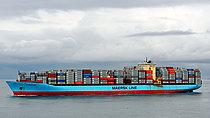Ship: (6, 61, 207, 99)
